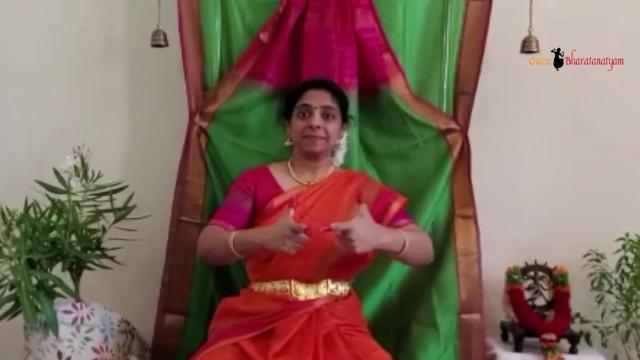chandrakala: (316, 182, 382, 270), (256, 186, 312, 274)
